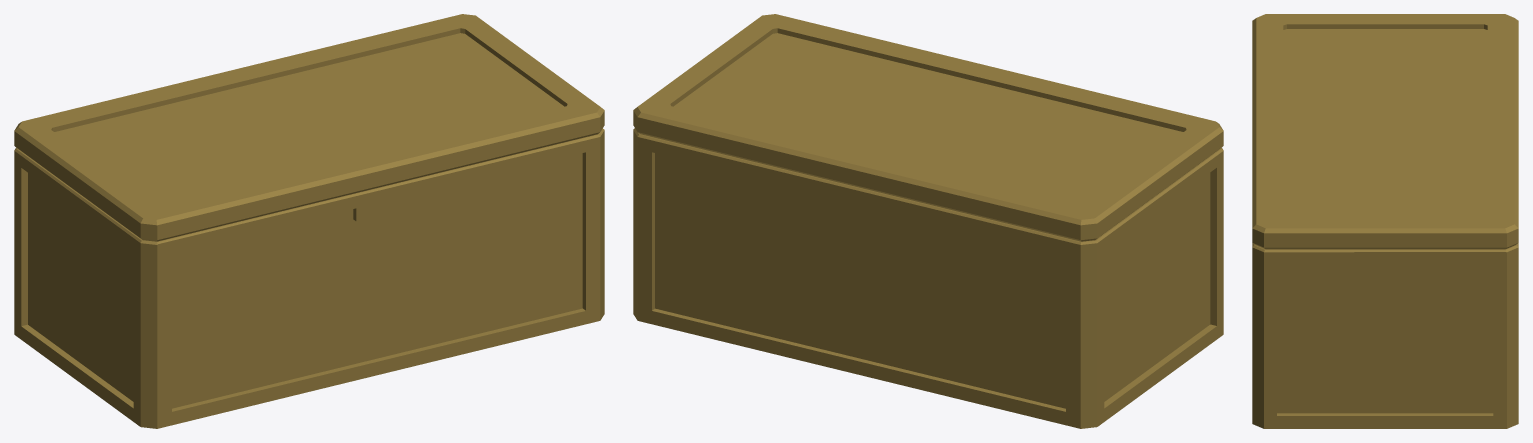
File: Chest 1.FBX
3 views of the same model, side by side, from view 1: azimuth 30°, elevation 25°; view 2: azimuth 150°, elevation 25°; view 3: azimuth 270°, elevation 25° (orthographic). The views are drawn at different scales.
Visible parts, largest first — view 1: Box501, Box505; view 2: Box501, Box505; view 3: Box505, Box501.
Part boxes in pixels (bbox=[...]): Box501: bbox=[14, 128, 604, 428]; Box505: bbox=[14, 14, 604, 241]; Box501: bbox=[633, 128, 1223, 428]; Box505: bbox=[633, 14, 1223, 241]; Box505: bbox=[1252, 14, 1518, 249]; Box501: bbox=[1252, 243, 1518, 428].
Size of the model in its own units: 165 by 70.59 by 85.53.
